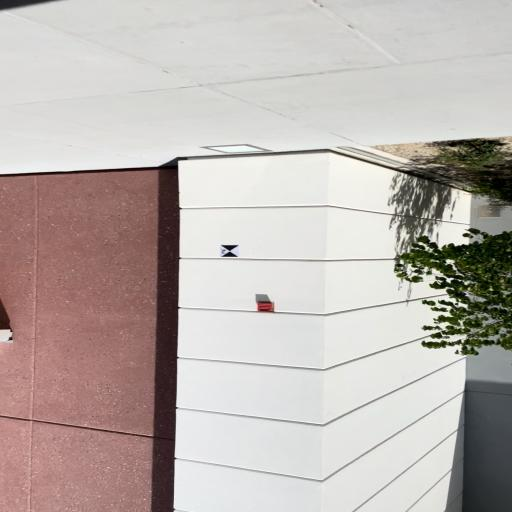target2: (220, 245, 240, 257)
